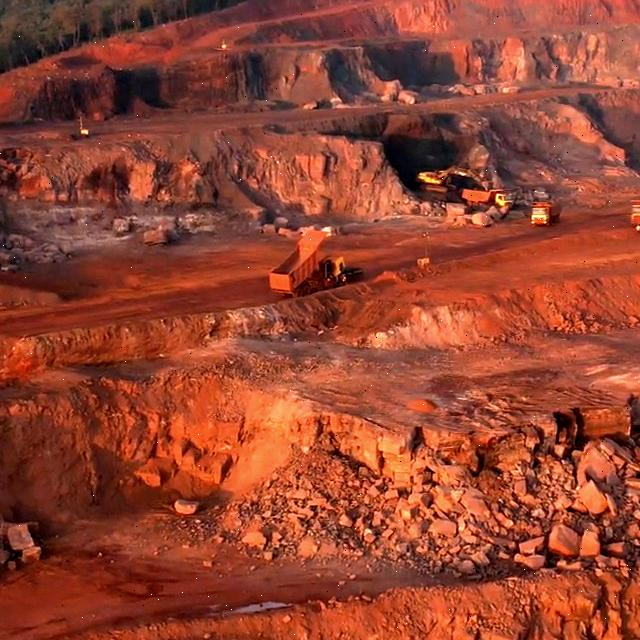Dumper truck: (275, 232, 346, 294), (531, 202, 557, 226), (630, 201, 640, 227)
Excavator: (417, 168, 454, 196)
